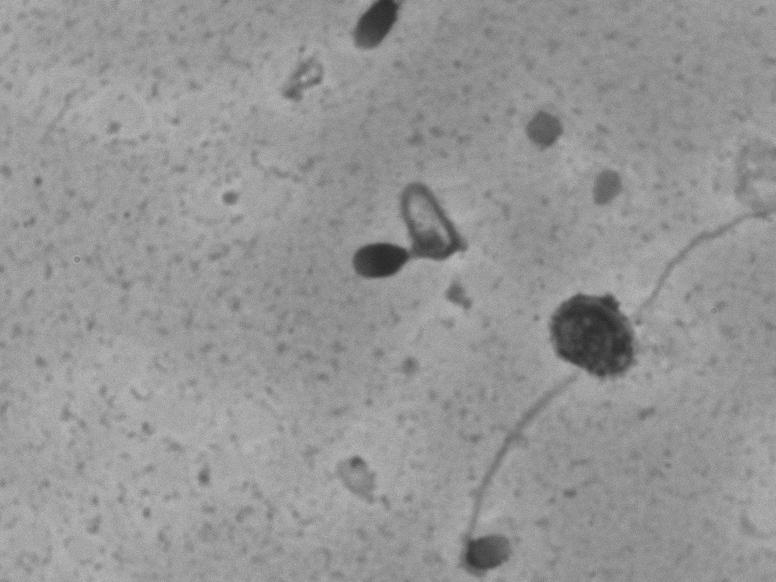Abnormal: (413, 387, 592, 573), (317, 155, 515, 304)
